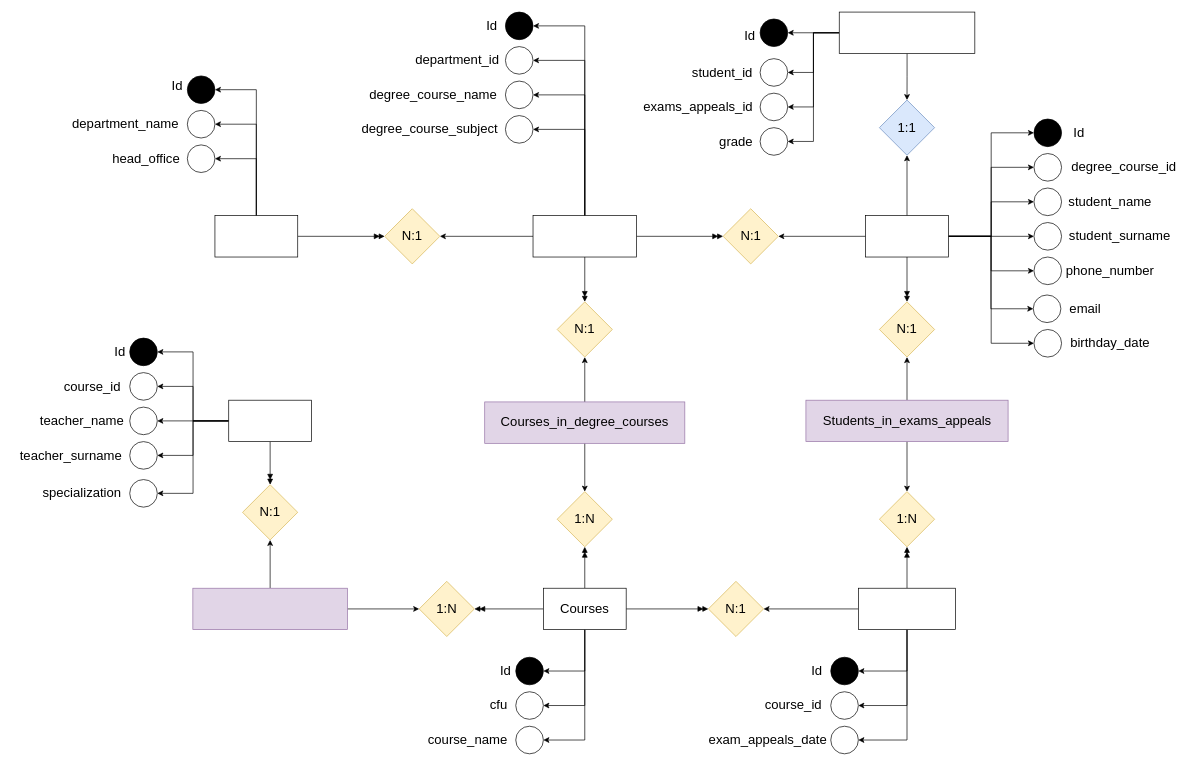
This 1197x766 diagram has some shape labels left out. The shapes that lost their labels are listed below. From the top down, each one's box as (x1, y1, x2, y2) in pixels, then its label:
(839, 11, 975, 53): Students_record_book
(214, 215, 298, 257): Departments
(532, 215, 637, 257): Degree_courses
(865, 215, 948, 257): Students
(228, 400, 312, 442): Teachers
(192, 588, 347, 630): Teachers_in_courses
(858, 588, 956, 630): Exam_appeals
